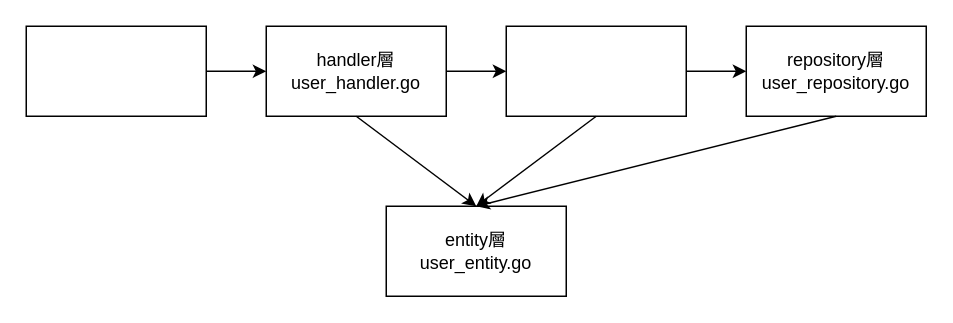
Some shapes in this 953 by 323 pixel diagram are drawn without their labels. Each missing label, with the centre of its shape:
"main.go" goes at (115,70).
"service層 user_service.go" goes at (595,70).
